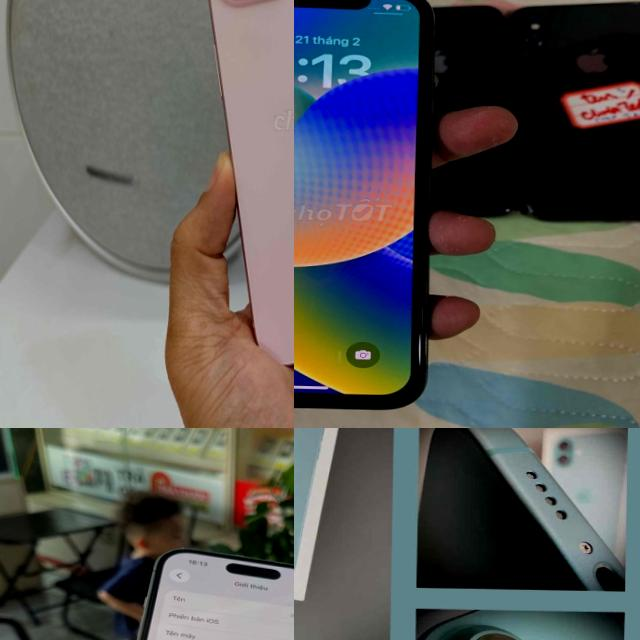gen_14: (95, 539, 294, 640)
gen_15: (179, 0, 294, 359)
gen_x_xs: (294, 0, 461, 428)
